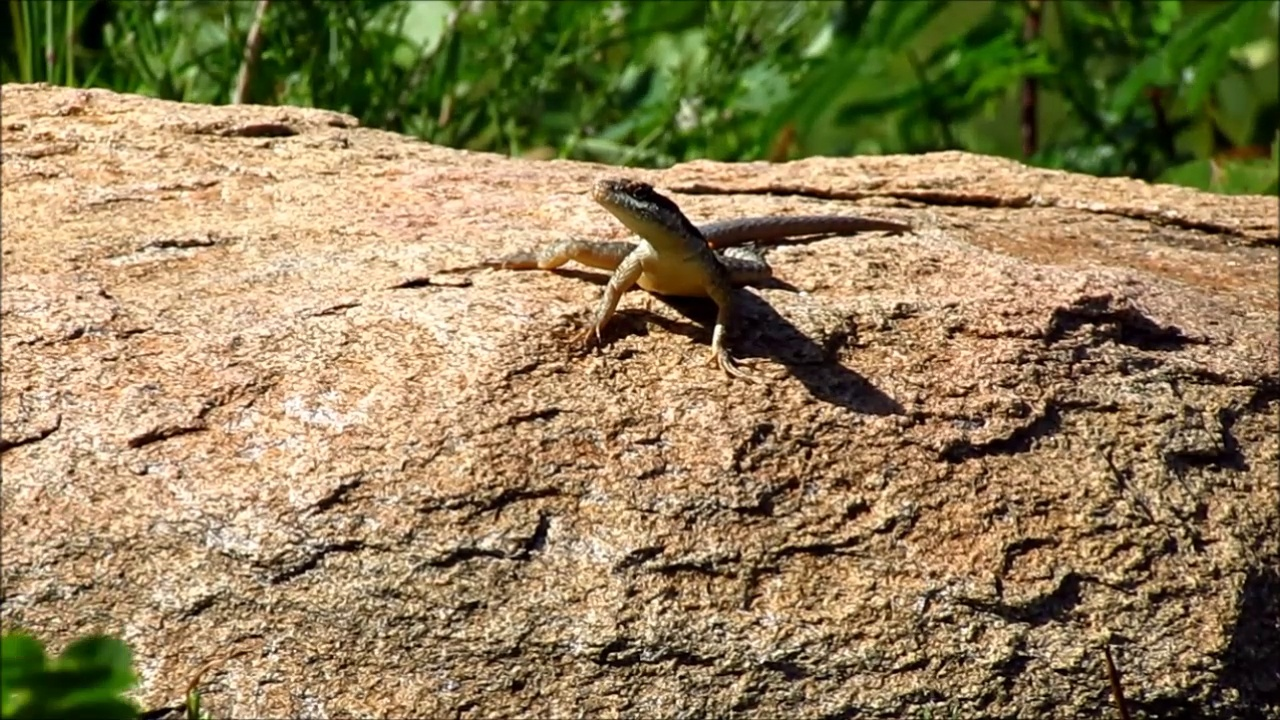body: (473, 214, 910, 378)
head: (590, 176, 681, 238)
